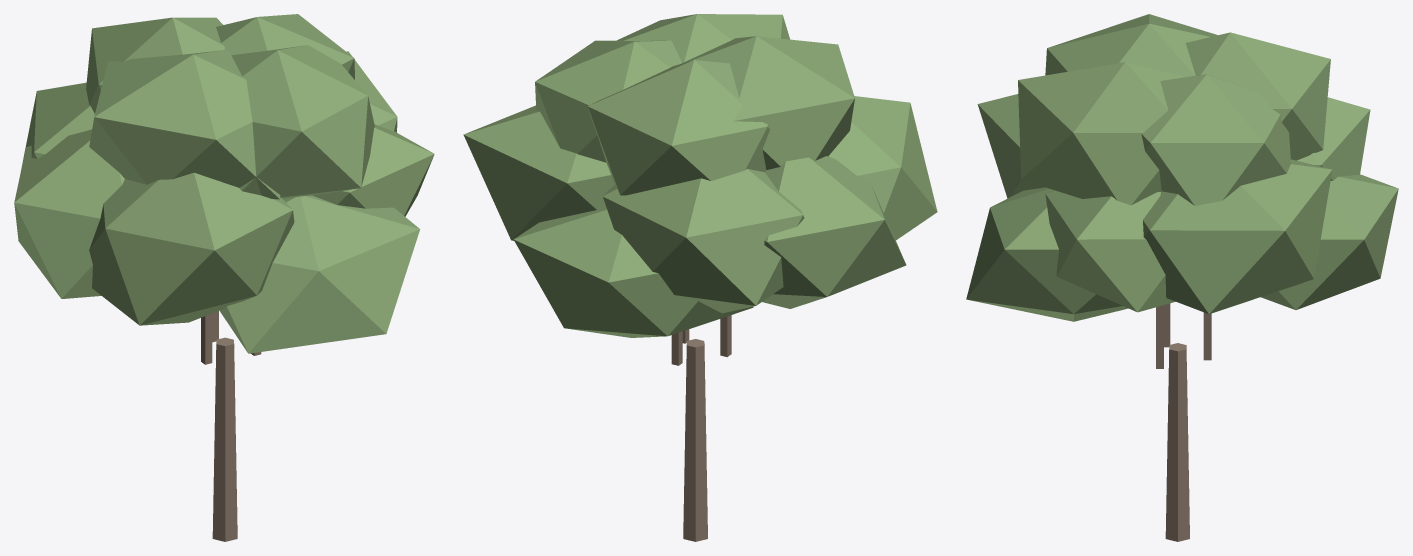
The model's file is HK_Tree_Zelkova.fbx.
3 views of the same model, side by side, from view 1: azimuth 30°, elevation 25°; view 2: azimuth 150°, elevation 25°; view 3: azimuth 270°, elevation 25° (orthographic). The views are drawn at different scales.
Visible parts, largest first — view 1: HK_Tree_Zelkova; view 2: HK_Tree_Zelkova; view 3: HK_Tree_Zelkova.
Boxes of the visible parts, x1,y1,x2,y2 form: HK_Tree_Zelkova: (14, 14, 434, 541); HK_Tree_Zelkova: (463, 14, 937, 541); HK_Tree_Zelkova: (966, 14, 1398, 541).
Size of the model in its own units: 8.74 by 10.88 by 8.68.
